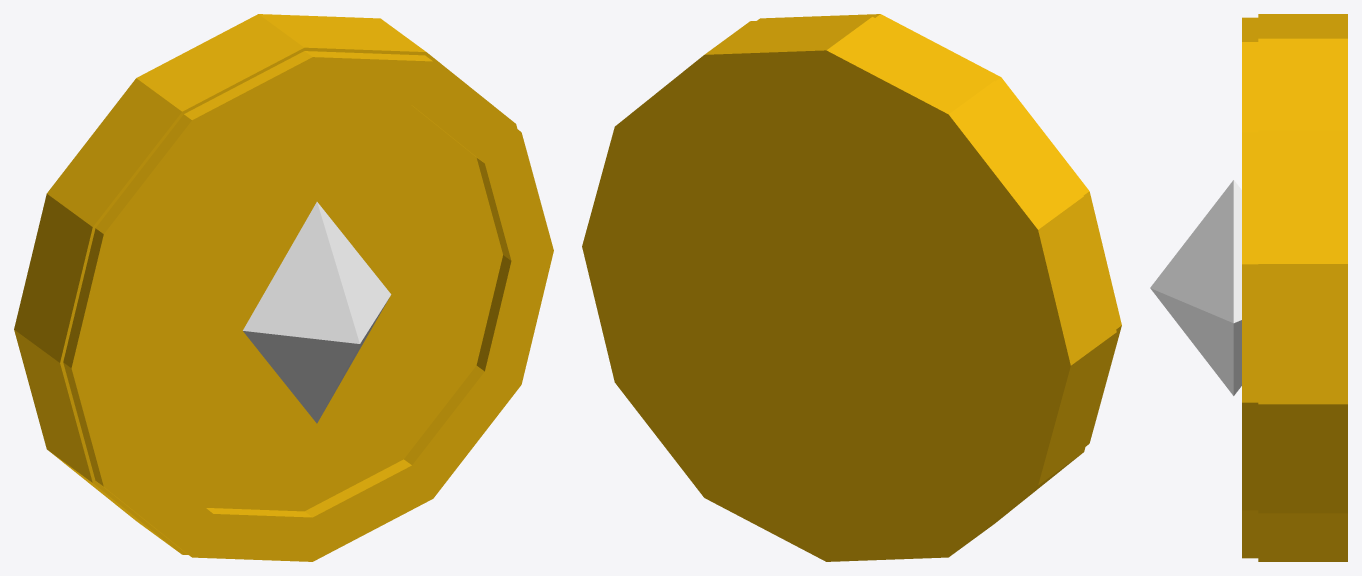
Rendered from loot_gold.glb.
3 views of the same model, side by side, from view 1: azimuth 30°, elevation 25°; view 2: azimuth 150°, elevation 25°; view 3: azimuth 270°, elevation 25° (orthographic). The views are drawn at different scales.
Visible parts, largest first — view 1: loot_gold_Mesh; view 2: loot_gold_Mesh; view 3: loot_gold_Mesh.
Boxes of the visible parts, x1=… form: loot_gold_Mesh: x1=14, y1=14, x2=553, y2=561; loot_gold_Mesh: x1=582, y1=14, x2=1121, y2=561; loot_gold_Mesh: x1=1150, y1=14, x2=1347, y2=561.
Bounding box in the file's own units: 0.46 × 0.46 × 0.1655.
